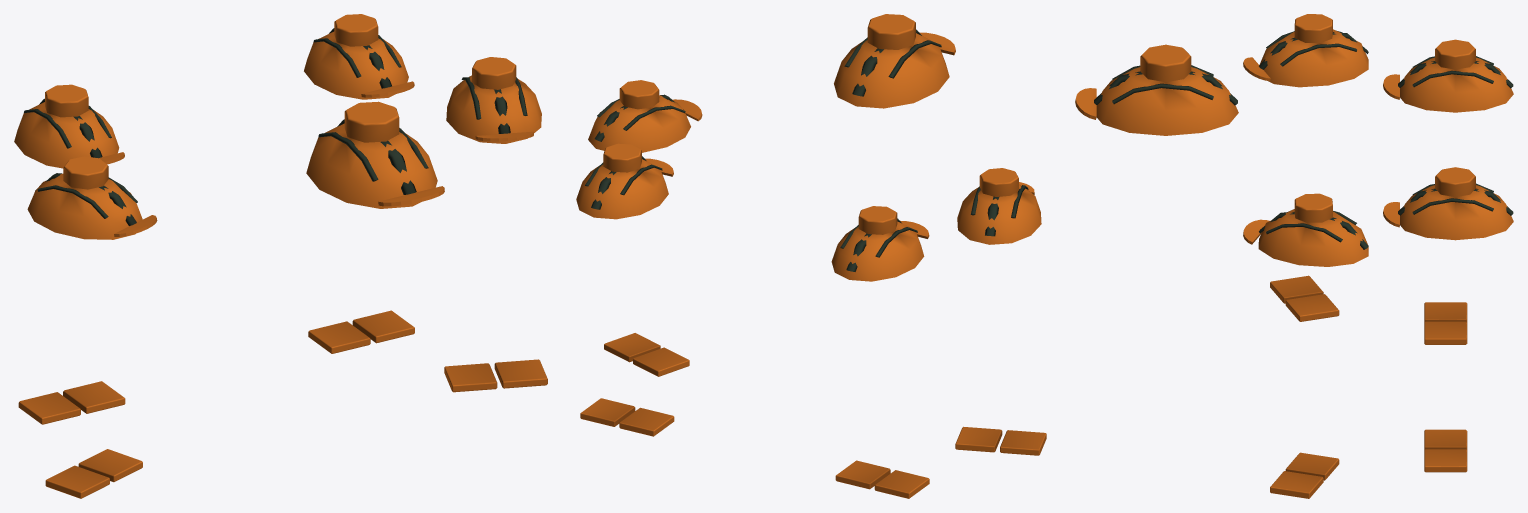
Rendered from trail-shredders-lod1.glb.
The picture shows the model from 3 angles, left to right: view 1: azimuth 30°, elevation 25°; view 2: azimuth 150°, elevation 25°; view 3: azimuth 270°, elevation 25°; orthographic projection. The views are drawn at different scales.
Visible parts, largest first — view 1: cap_hat, att3_hat, att0_hat, att2_hat, att1_hat, att3_leg_r_trim, att0_leg_r_trim, att1_leg_r_trim, att1_leg_l_trim, att0_leg_l_trim, att2_leg_r_trim, att2_leg_l_trim (+1 smaller); view 2: cap_hat, att2_hat, att1_hat, att0_hat, att3_hat, att2_leg_r_trim, att1_leg_r_trim, att0_leg_r_trim, att0_leg_l_trim, att1_leg_l_trim, att3_leg_l_trim, att3_leg_r_trim (+1 smaller); view 3: cap_hat, att1_hat, att0_hat, att2_hat, att3_hat, att3_leg_l_trim, att2_leg_l_trim, att0_leg_l_trim, att1_leg_l_trim, att2_leg_r_trim, att3_leg_r_trim, att0_leg_r_trim (+1 smaller).
Part boxes in pixels (box(x1,y1,x2,y2)): cap_hat: box(306, 101, 444, 208); att3_hat: box(27, 156, 157, 239); att0_hat: box(304, 14, 414, 99); att2_hat: box(446, 57, 541, 143); att1_hat: box(14, 84, 124, 168); att3_leg_r_trim: box(45, 465, 109, 498); att0_leg_r_trim: box(308, 321, 370, 353); att1_leg_r_trim: box(18, 392, 80, 424); att1_leg_l_trim: box(63, 381, 125, 413); att0_leg_l_trim: box(352, 310, 414, 343); att2_leg_r_trim: box(444, 363, 497, 392); att2_leg_l_trim: box(494, 359, 547, 388); cap_hat: box(834, 14, 955, 108); att2_hat: box(588, 80, 702, 152); att1_hat: box(831, 206, 929, 281); att0_hat: box(576, 143, 673, 219); att3_hat: box(957, 168, 1041, 244); att2_leg_r_trim: box(633, 347, 689, 376); att1_leg_r_trim: box(874, 470, 929, 498); att0_leg_r_trim: box(619, 407, 674, 436); att0_leg_l_trim: box(580, 398, 635, 426); att1_leg_l_trim: box(835, 460, 890, 489); att3_leg_l_trim: box(955, 426, 1002, 452); att3_leg_r_trim: box(1000, 430, 1046, 455); cap_hat: box(1075, 44, 1238, 135); att1_hat: box(1383, 39, 1513, 112); att0_hat: box(1383, 167, 1513, 240); att2_hat: box(1243, 193, 1368, 266); att3_hat: box(1243, 14, 1368, 87); att3_leg_l_trim: box(1285, 294, 1339, 321); att2_leg_l_trim: box(1270, 471, 1323, 498); att0_leg_l_trim: box(1424, 449, 1467, 472); att1_leg_l_trim: box(1424, 321, 1467, 344); att2_leg_r_trim: box(1285, 452, 1339, 480); att3_leg_r_trim: box(1270, 275, 1323, 303); att0_leg_r_trim: box(1424, 429, 1467, 449).
Bounding box in the file's own units: 2.12 × 1.52 × 1.8.
